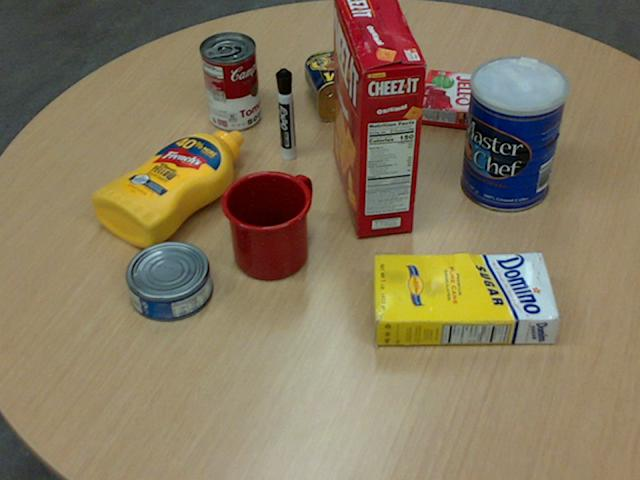cracker_box: (332, 0, 425, 235)
gelatin_box: (417, 68, 484, 128)
large_marker: (275, 68, 294, 160)
master_chef_can: (460, 56, 567, 212)
mug: (219, 170, 311, 280)
mustard_bottle: (90, 130, 242, 246)
potted_meat_can: (304, 44, 395, 121)
sugar_box: (370, 252, 560, 348)
tomato_soup_can: (200, 30, 260, 129)
tuna_fish_can: (124, 240, 211, 321)
